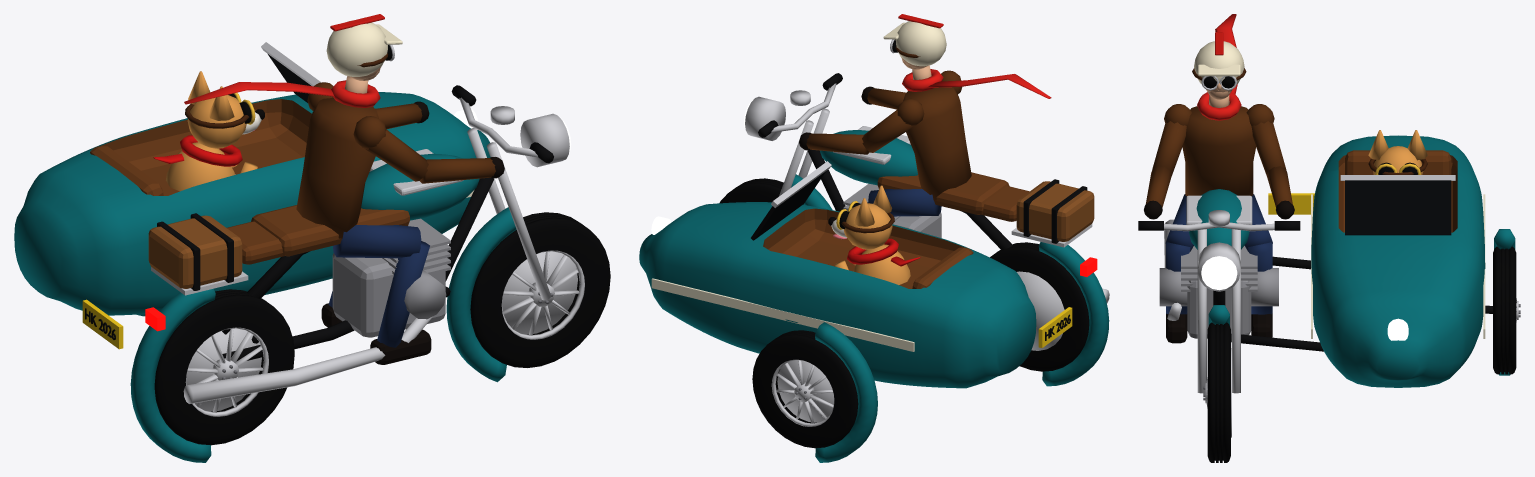
Rendered from sidecar.glb.
The picture shows the model from 3 angles, left to right: view 1: azimuth 30°, elevation 25°; view 2: azimuth 150°, elevation 25°; view 3: azimuth 270°, elevation 25°; orthographic projection. The views are drawn at different scales.
Parts seen in each view (by area): view 1: chair, w_tyre, w_tyre.001, torso, guard.001, guard, luggage, engine, exhaust, tank, saddle, w_barrel (+29 smaller); view 2: chair, w3_tyre, torso, w_tyre.001, guard.001, guard3, luggage, chairstripe, tank, saddle, helmet, w3_barrel (+25 smaller); view 3: chair, chairscreen, torso, w_tyre, w3_tyre, tank, engine, fork.001, fork, chairback, uarm, uarm.001 (+27 smaller).
Part boxes in pixels (x1=…): chair: x1=14, y1=92, x2=490, y2=315; w_tyre: x1=470, y1=212, x2=610, y2=367; w_tyre.001: x1=154, y1=289, x2=294, y2=445; torso: x1=296, y1=97, x2=378, y2=238; guard.001: x1=130, y1=288, x2=215, y2=462; guard: x1=446, y1=207, x2=516, y2=382; luggage: x1=148, y1=215, x2=242, y2=288; engine: x1=332, y1=253, x2=445, y2=337; exhaust: x1=183, y1=316, x2=432, y2=403; tank: x1=361, y1=153, x2=479, y2=220; saddle: x1=251, y1=205, x2=409, y2=256; w_barrel: x1=502, y1=251, x2=577, y2=334; chair: x1=639, y1=202, x2=1036, y2=388; w3_tyre: x1=752, y1=330, x2=858, y2=448; torso: x1=903, y1=87, x2=971, y2=200; w_tyre.001: x1=990, y1=242, x2=1089, y2=371; guard.001: x1=1038, y1=242, x2=1109, y2=386; guard3: x1=815, y1=322, x2=877, y2=462; luggage: x1=1016, y1=181, x2=1094, y2=241; chairstripe: x1=651, y1=278, x2=914, y2=351; tank: x1=820, y1=130, x2=917, y2=185; saddle: x1=877, y1=172, x2=1009, y2=214; helmet: x1=895, y1=19, x2=946, y2=66; w3_barrel: x1=777, y1=360, x2=834, y2=422; chair: x1=1311, y1=135, x2=1485, y2=387; chairscreen: x1=1345, y1=180, x2=1451, y2=235; torso: x1=1182, y1=106, x2=1255, y2=196; w_tyre: x1=1207, y1=322, x2=1230, y2=462; w3_tyre: x1=1493, y1=246, x2=1516, y2=374; tank: x1=1189, y1=189, x2=1249, y2=249; engine: x1=1187, y1=280, x2=1251, y2=338; fork.001: x1=1197, y1=229, x2=1206, y2=393; fork: x1=1231, y1=229, x2=1240, y2=393; chairback: x1=1345, y1=150, x2=1451, y2=174; uarm: x1=1251, y1=121, x2=1286, y2=174; uarm.001: x1=1152, y1=121, x2=1186, y2=174.
Bounding box in the file's own units: 2.24 × 1.82 × 1.79.
